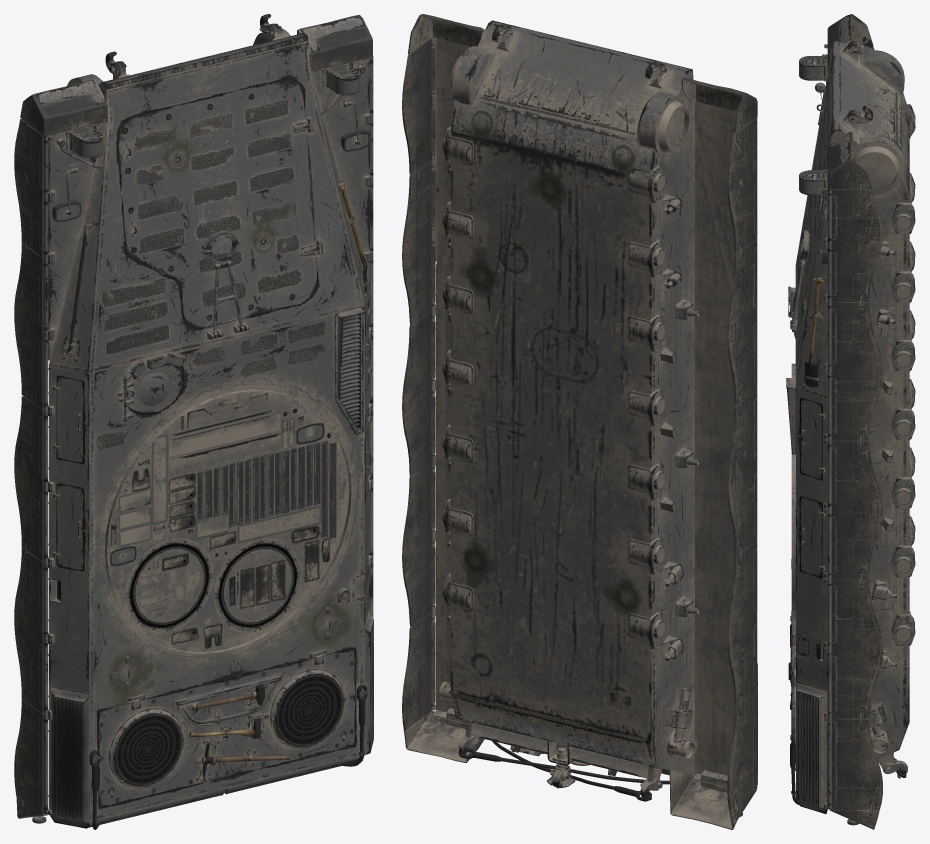
File: Hull.glb
3 renders of one model, left to right at view 1: azimuth 30°, elevation 25°; view 2: azimuth 150°, elevation 25°; view 3: azimuth 270°, elevation 25°, orthographic. The views are drawn at different scales.
Parts seen in each view (by area): view 1: set_0_group_0; view 2: set_0_group_0; view 3: set_0_group_0.
Part boxes in pixels (<box>): set_0_group_0: <box>14,14,373,829</box>; set_0_group_0: <box>402,14,757,829</box>; set_0_group_0: <box>786,14,915,829</box>.
Bounding box in the file's own units: 3.54 × 7.65 × 1.31.
Materials: 1 (1 with a texture image).
